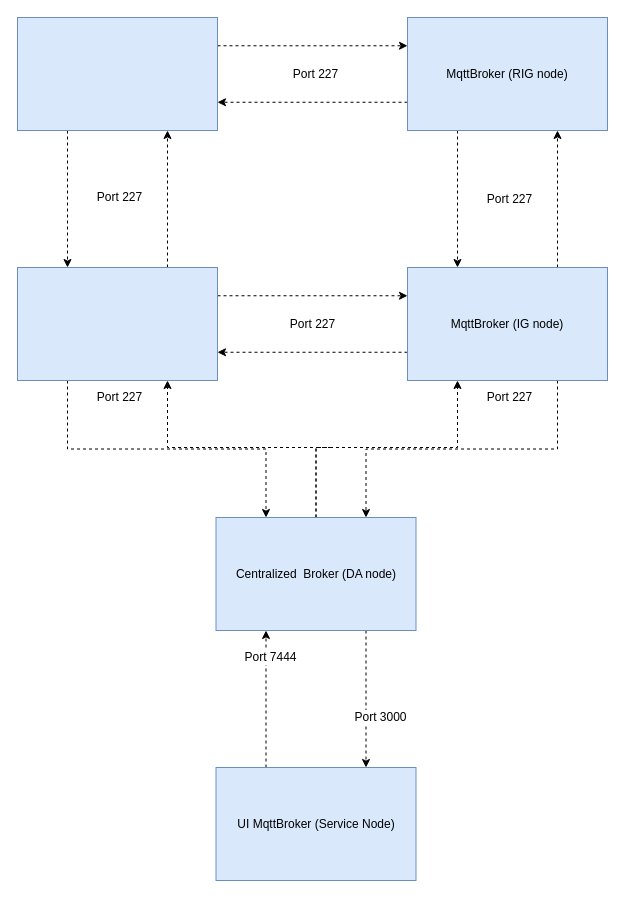
Some shapes in this 625 by 898 pixel diagram are drawn without their labels. The shapes that lost their labels are listed below. From the top down, each one's box as (x1, y1, x2, y2) in pixels, then its label:
(16, 16, 218, 130): MqttBroker (SYS node)
(16, 266, 218, 380): MqttBroker(RA node)
